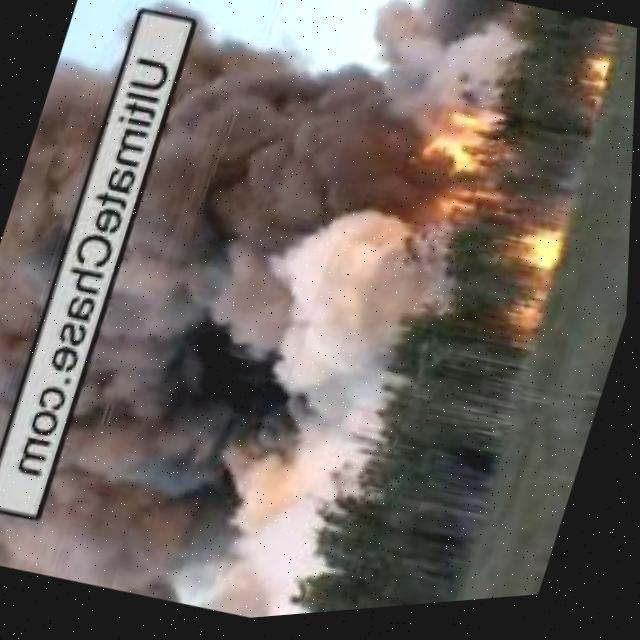Fire: (399, 95, 507, 222), (565, 48, 620, 119), (507, 228, 570, 285), (507, 301, 551, 342)
Smoke: (18, 0, 510, 638), (0, 51, 118, 556)
